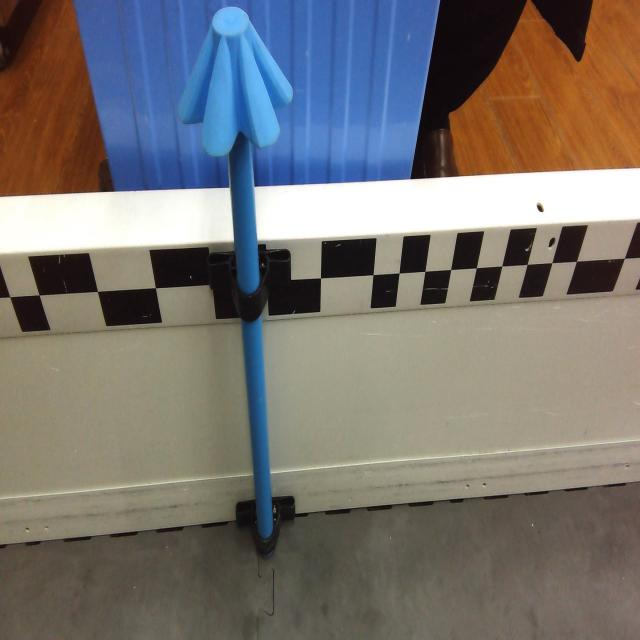zblue-Stake-Head: (176, 6, 293, 157)
